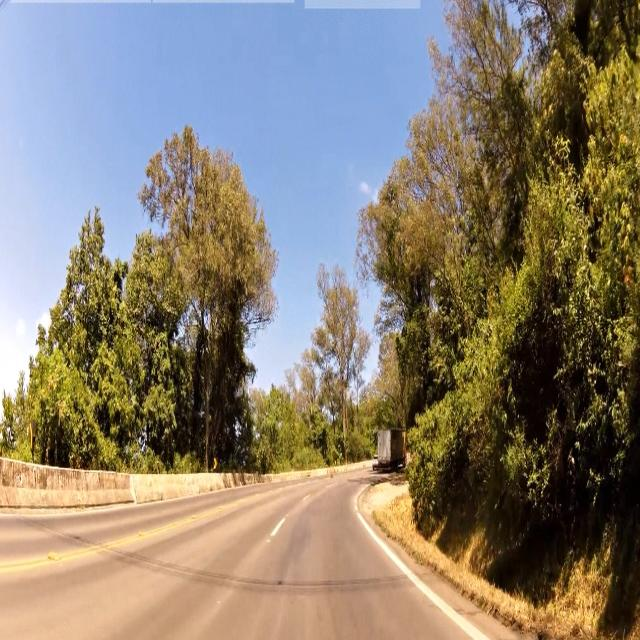Del: (212, 454, 218, 470)
